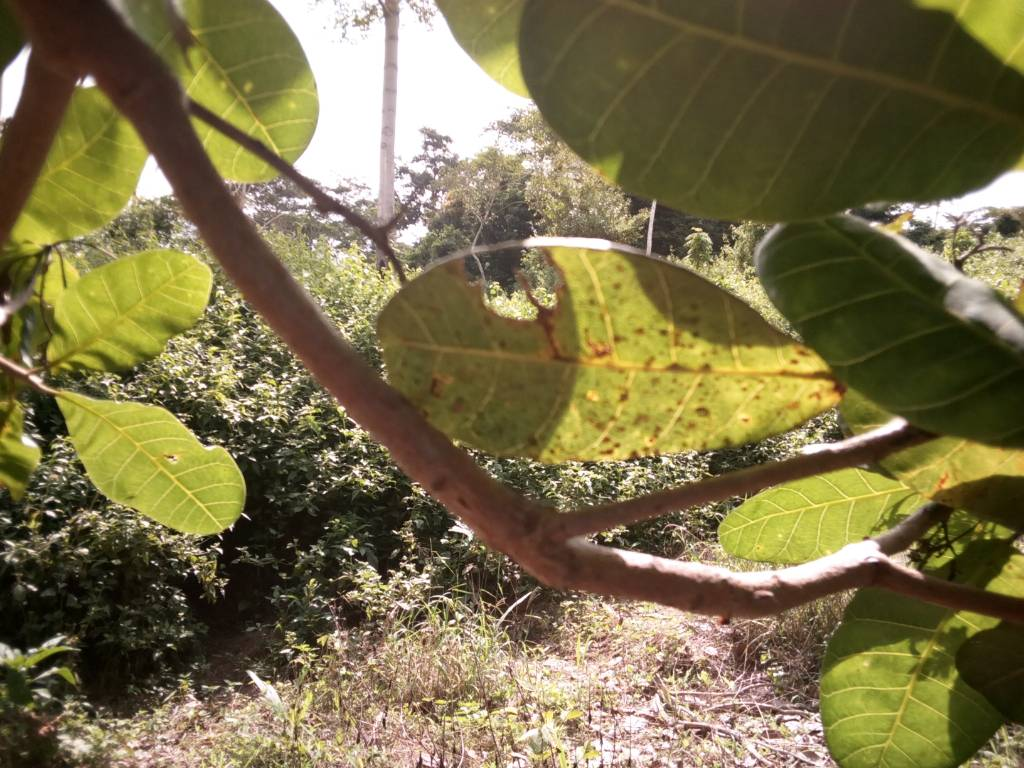Anthracnose: (339, 242, 853, 459)
